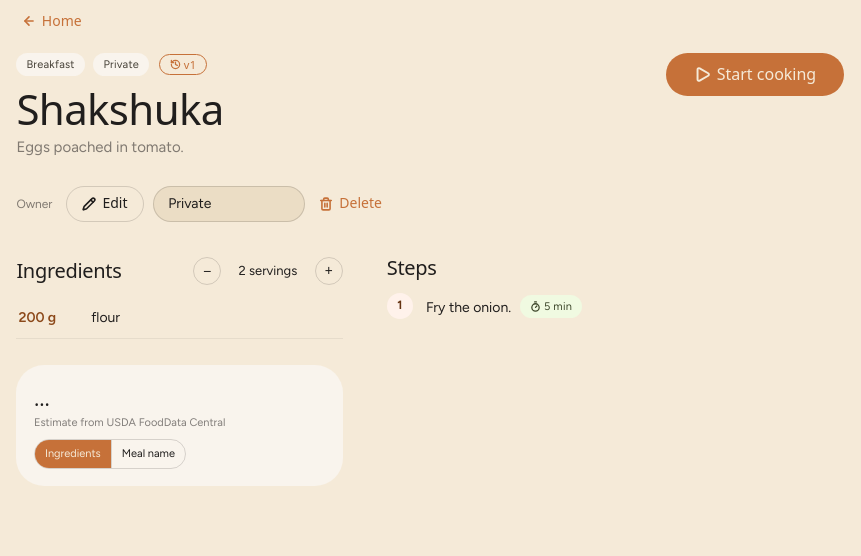
Test case: RecipeDetailScreen › UI-14 rescales a quantity on screen when the servings stepper is used
Expected: the text "200 g" is shown, top-left (18, 309), bottom-right (56, 326)
Expected: the text "2 servings" is shown, top-left (238, 263), bottom-right (297, 278)
Step 1. Click the button named "More servings" → (329, 271), box top-left (315, 257), bottom-right (343, 285)
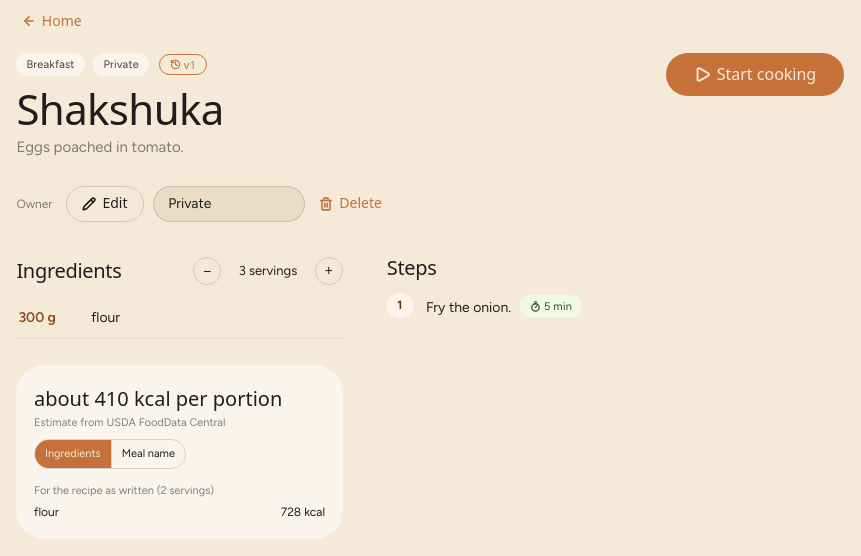
Expected: the text "300 g" is shown, top-left (18, 309), bottom-right (56, 326)
Expected: the text "3 servings" is shown, top-left (239, 263), bottom-right (297, 278)
